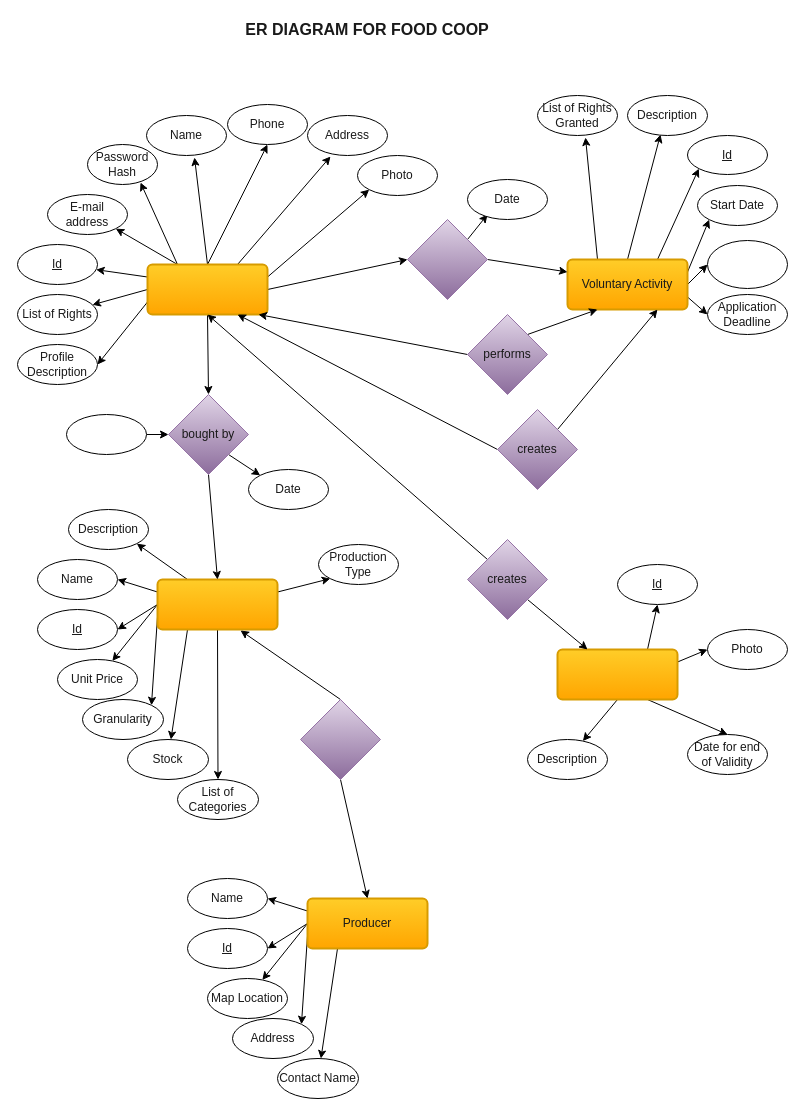
Image size: 805x1116. Some labels were removed from this diagram. The centre of each missing label's shape, as x and y in pixels:
"Announcement" belongs at point (617, 674).
"applies to" belongs at point (447, 259).
"End Date" belongs at point (747, 264).
"produced by" belongs at point (340, 739).
"Product" belongs at point (217, 604).
"Quantity" belongs at point (106, 434).
"User" belongs at point (207, 289).
